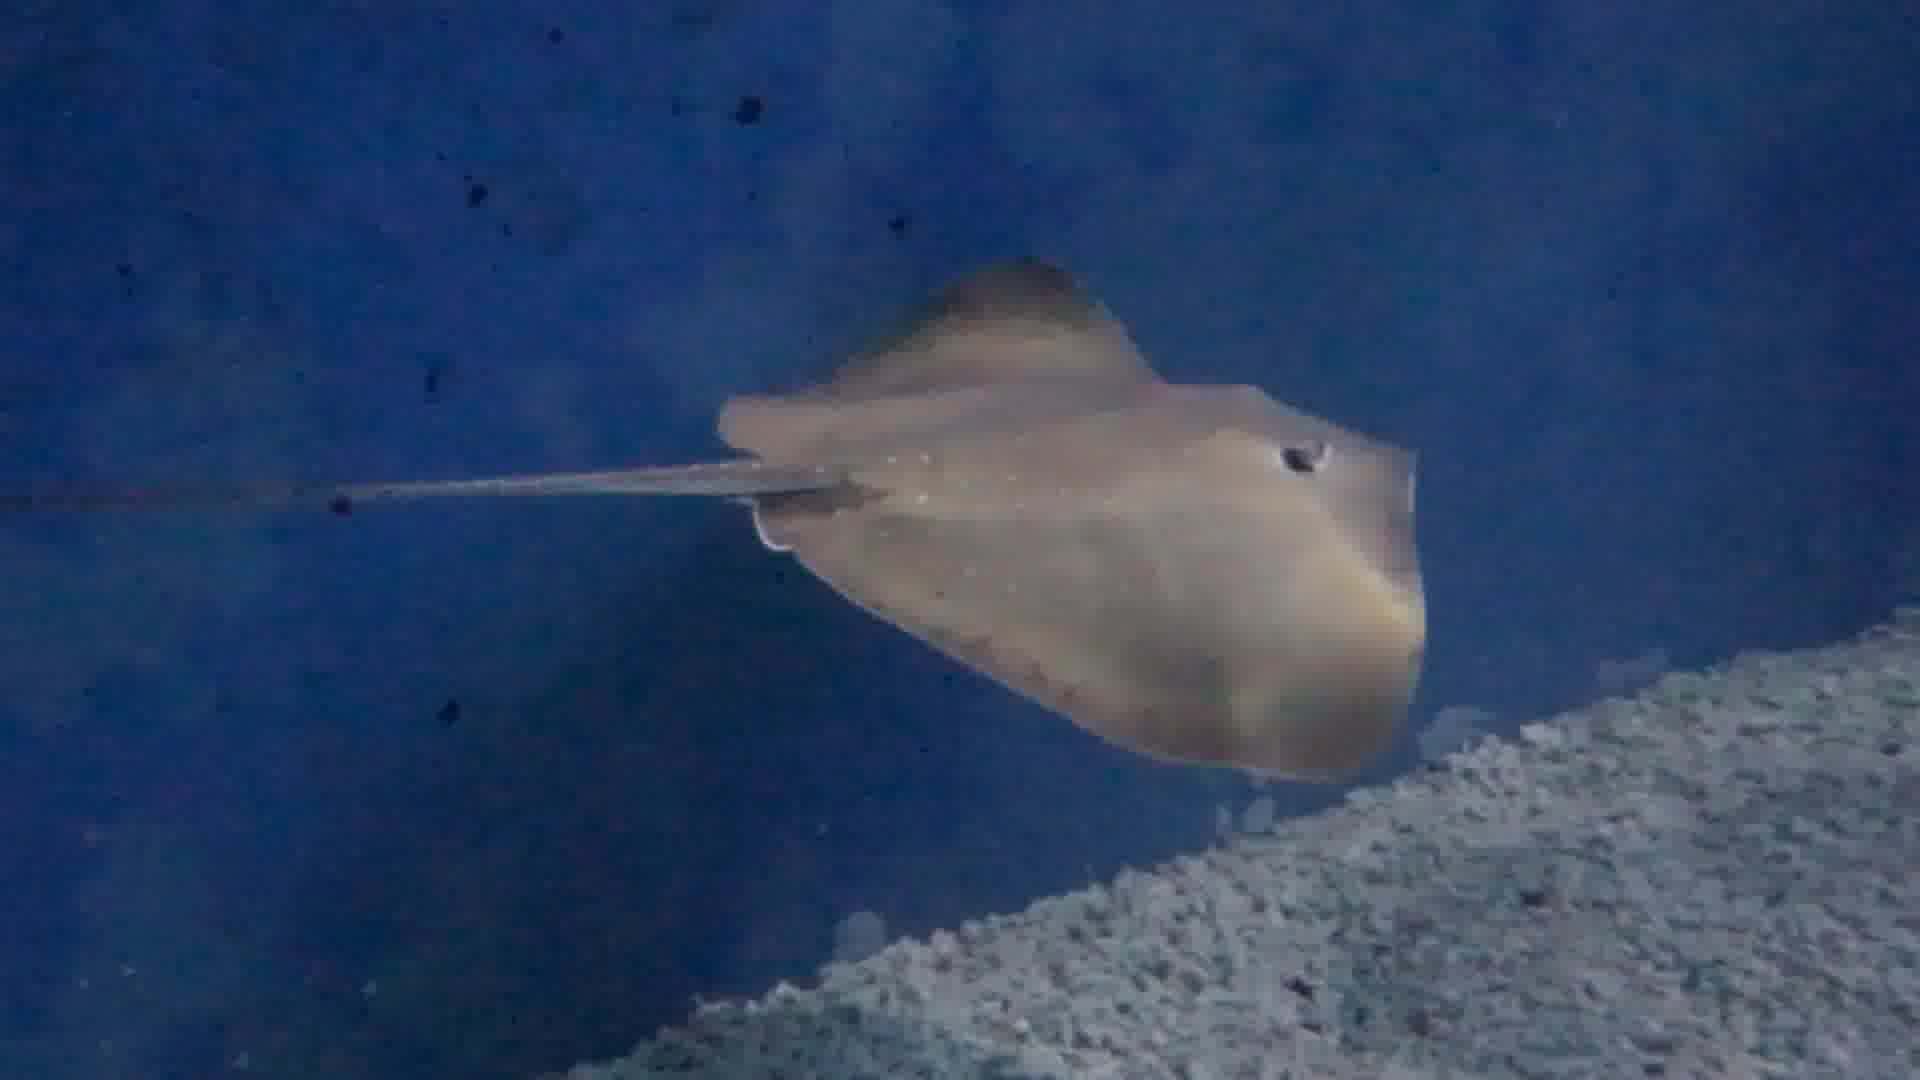Himantura gerrardi: (1, 252, 1461, 804)
